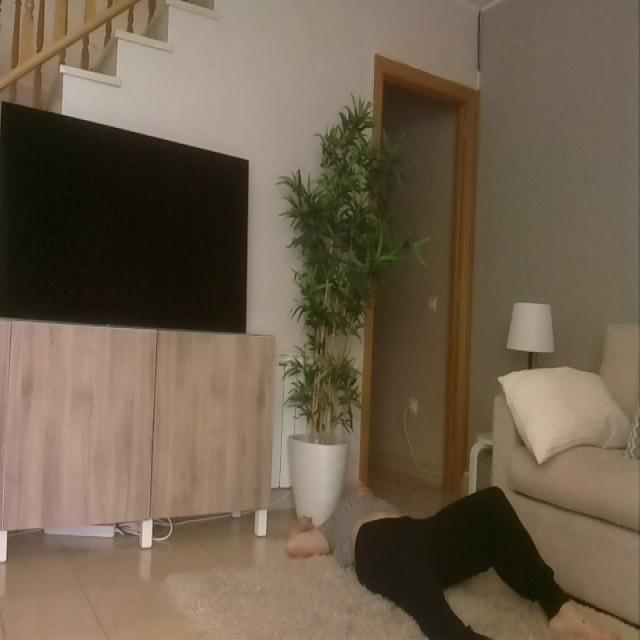fall: (264, 467, 614, 638)
